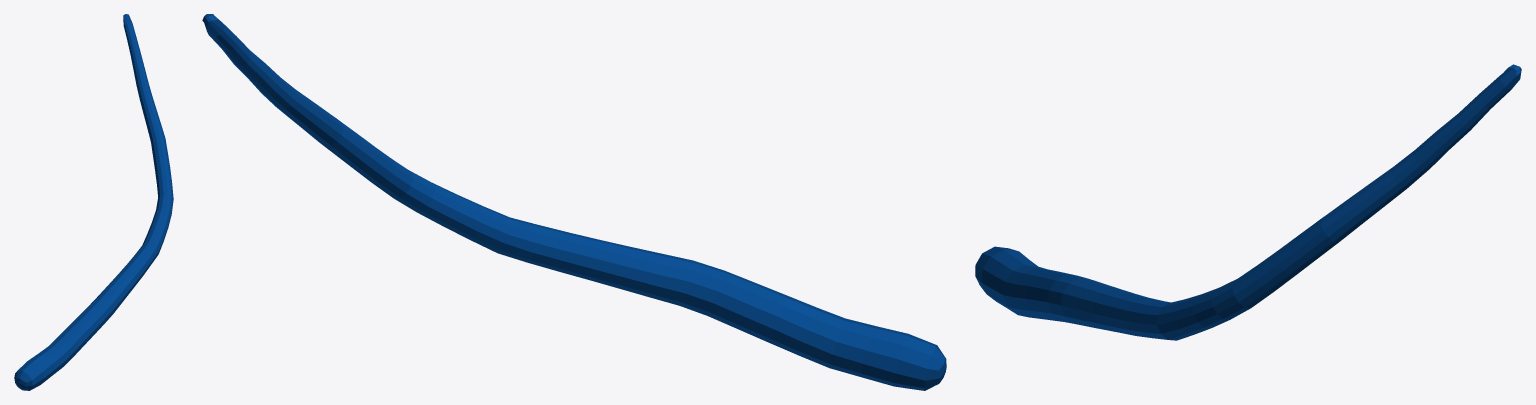
The model's file is Optic_nerve_L.glb.
3 views of the same model, side by side, from view 1: azimuth 30°, elevation 25°; view 2: azimuth 150°, elevation 25°; view 3: azimuth 270°, elevation 25° (orthographic). The views are drawn at different scales.
Visible parts, largest first — view 1: Optic_nerve_L; view 2: Optic_nerve_L; view 3: Optic_nerve_L.
Part boxes in pixels (x1,y1,x2,y2): Optic_nerve_L: (14,14,173,390); Optic_nerve_L: (202,14,946,390); Optic_nerve_L: (975,64,1521,340).
Bounding box in the file's own units: 0.0489 × 0.0435 × 0.0477.
1 material, 1 textured.
